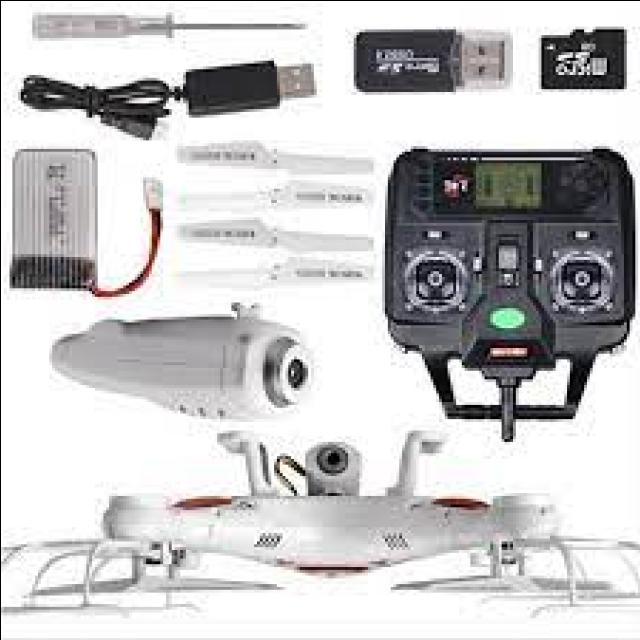drone: (0, 416, 640, 630)
